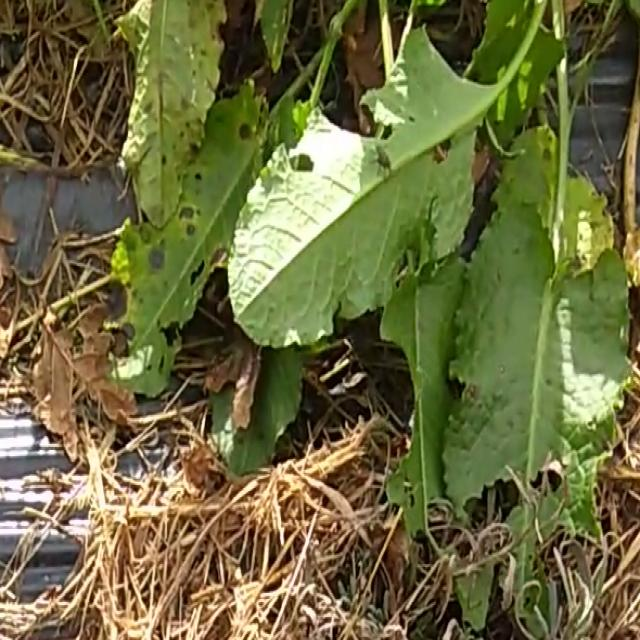organic waste: (76, 0, 640, 578)
